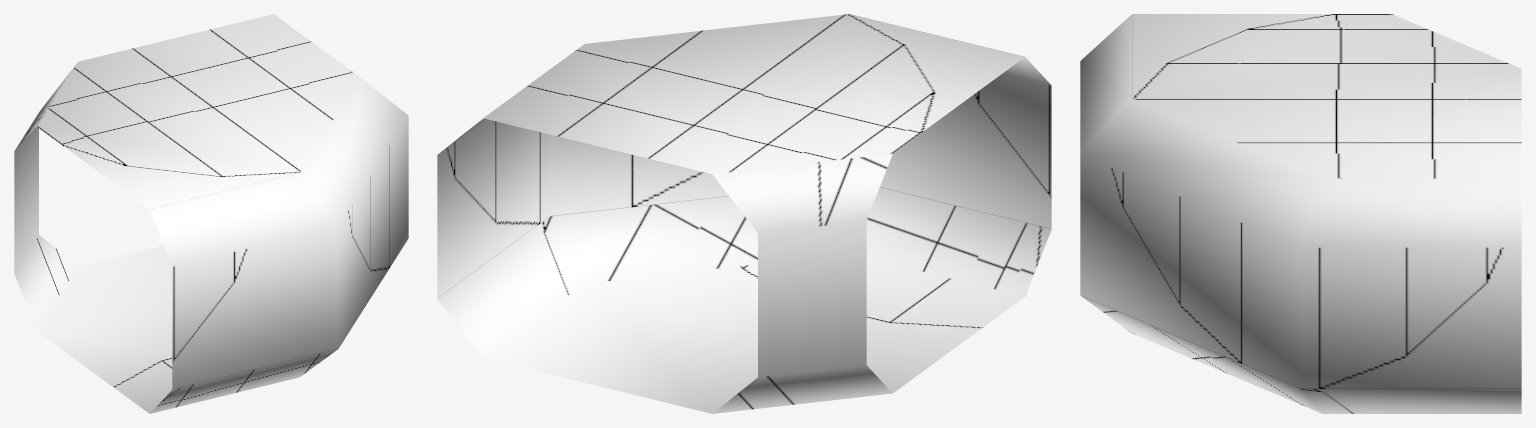
The model's file is corridor_corner.obj.
3 renders of one model, left to right at view 1: azimuth 30°, elevation 25°; view 2: azimuth 150°, elevation 25°; view 3: azimuth 270°, elevation 25°, orthographic. The views are drawn at different scales.
Parts seen in each view (by area): view 1: cube1; view 2: cube1; view 3: cube1.
Boxes of the visible parts, x1,y1,x2,y2 form: cube1: [14, 14, 408, 413]; cube1: [437, 14, 1051, 413]; cube1: [1080, 14, 1521, 413].
Size of the model in its own units: 17 by 10 by 17.
